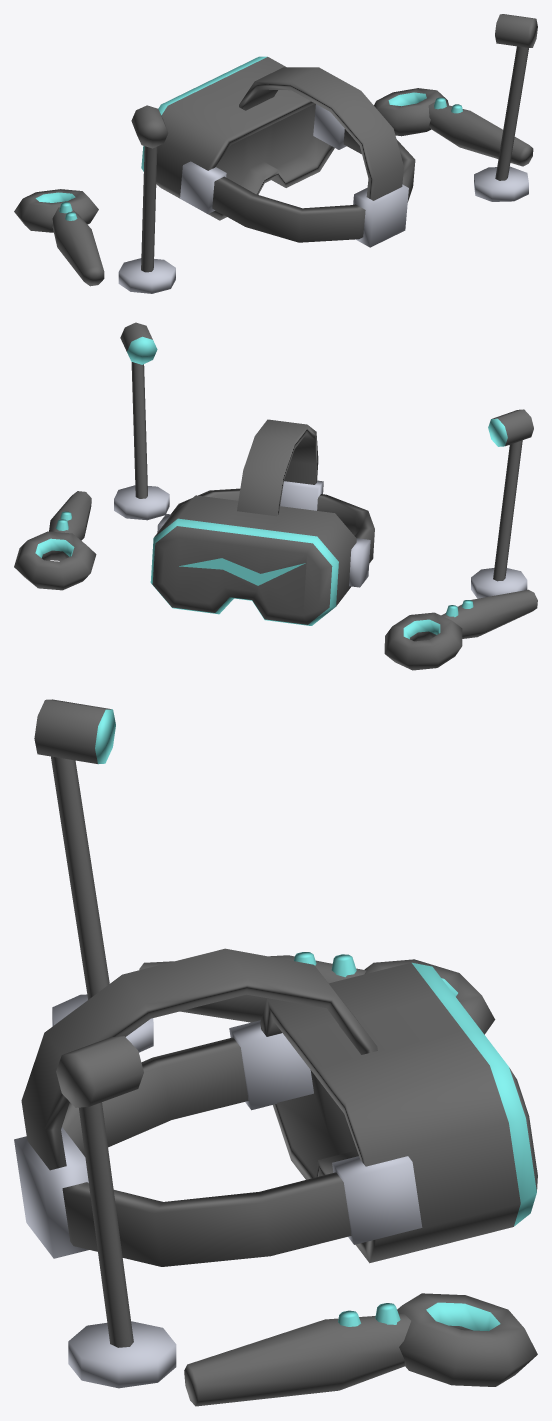
3 views of the same model, one above another, from view 1: azimuth 30°, elevation 25°; view 2: azimuth 150°, elevation 25°; view 3: azimuth 270°, elevation 25° (orthographic). The views are drawn at different scales.
Visible parts, largest first — view 1: mesh_vr_01; view 2: mesh_vr_01; view 3: mesh_vr_01.
Part boxes in pixels (box(x1,y1,x2,y2)): mesh_vr_01: box(14, 14, 537, 293); mesh_vr_01: box(14, 322, 537, 670); mesh_vr_01: box(14, 699, 537, 1406).
Size of the model in its own units: 1.1 by 0.4138 by 0.5763.
